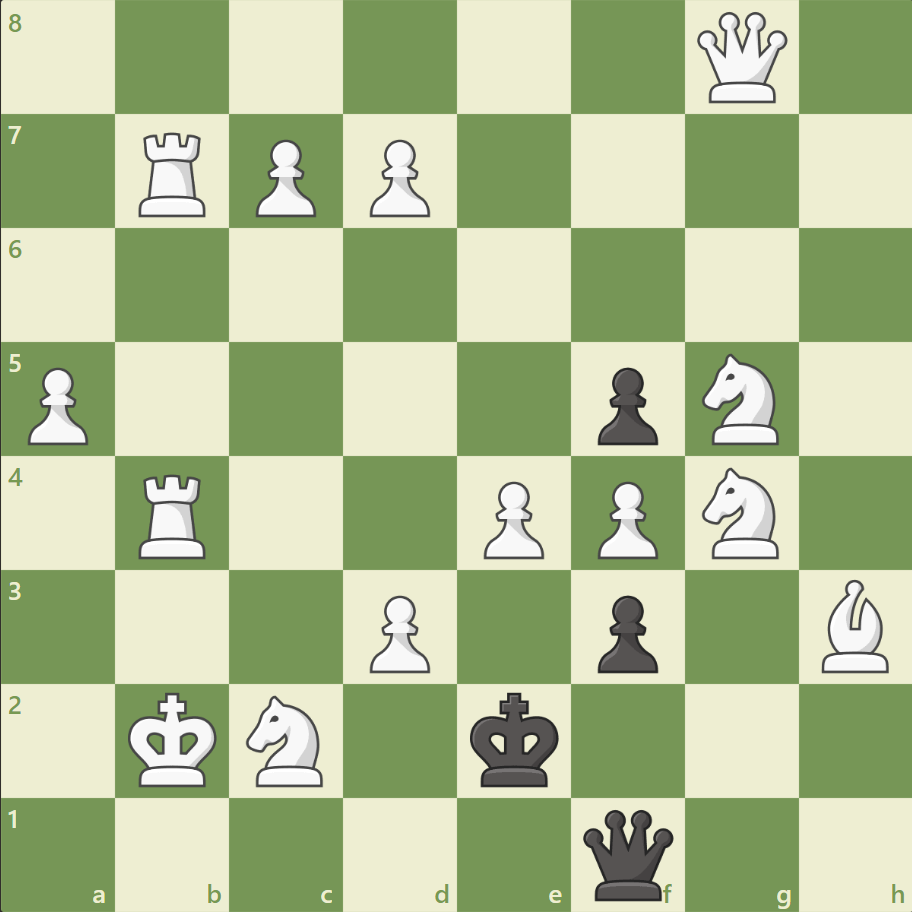B: (812, 574, 896, 676)
K: (124, 685, 224, 793)
N: (692, 461, 789, 564), (238, 688, 335, 791), (692, 348, 789, 450)
P: (247, 132, 322, 223), (20, 359, 95, 450), (474, 473, 549, 564), (361, 132, 435, 223), (588, 473, 662, 564), (361, 586, 435, 677)
Q: (691, 9, 790, 108)
R: (133, 125, 215, 222), (133, 466, 215, 563)
k: (465, 685, 565, 793)
p: (588, 359, 662, 450), (588, 586, 662, 677)
q: (578, 804, 677, 903)
